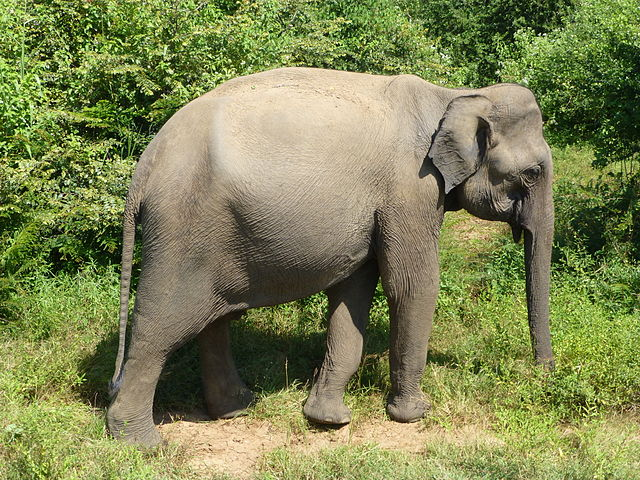elephant: (92, 53, 572, 447)
